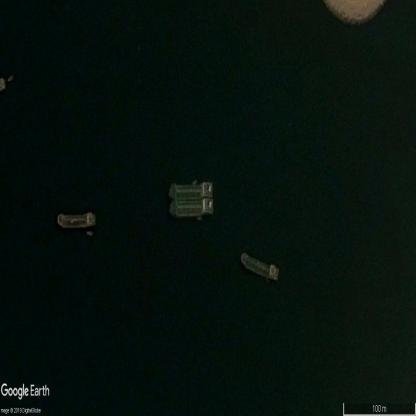ship: (241, 252, 278, 280), (169, 182, 213, 198), (169, 201, 214, 216), (57, 213, 96, 226)
